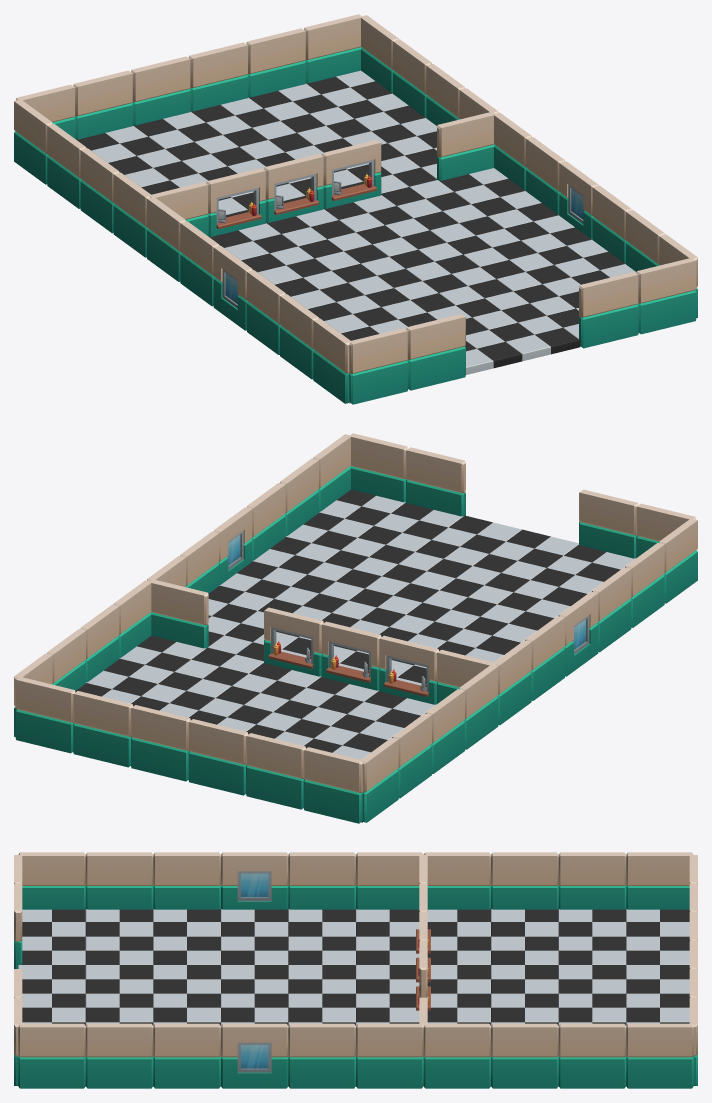
The model's file is restaurant.gltf.
The picture shows the model from 3 angles, top to bottom: view 1: azimuth 30°, elevation 25°; view 2: azimuth 150°, elevation 25°; view 3: azimuth 270°, elevation 25°; orthographic projection.
Visible parts, largest first — view 1: wall28, wall26, wall25, wall27, wall4, wall3, wall2, wall5, wall29, wall6, wall_orderwindow_decorated, wall_orderwindow_decorated2 (+65 smaller); view 2: wall, wall6, wall4, wall3, wall2, wall5, wall28, wall27, wall29, wall25, wall_orderwindow_decorated2, wall_orderwindow_decorated (+65 smaller); view 3: wall14, wall23, wall15, wall19, wall_window_closed2, wall18, wall16, wall17, wall24, wall13, wall20, wall21 (+54 smaller).
Boxes of the visible parts, x1,y1,x2,y2 form: wall28: (579, 272, 638, 348); wall26: (349, 328, 408, 404); wall25: (636, 258, 696, 334); wall27: (406, 314, 465, 390); wall4: (188, 42, 248, 111); wall3: (131, 56, 190, 125); wall2: (73, 70, 132, 139); wall5: (246, 28, 305, 97); wall29: (437, 112, 494, 180); wall6: (304, 14, 362, 83); wall_orderwindow_decorated: (206, 168, 266, 236); wall_orderwindow_decorated2: (264, 154, 323, 222); wall: (303, 747, 362, 823); wall6: (15, 677, 75, 753); wall4: (131, 705, 190, 781); wall3: (188, 719, 248, 795); wall2: (246, 733, 305, 809); wall5: (73, 691, 132, 767); wall28: (406, 447, 465, 516); wall27: (579, 489, 638, 558); wall29: (151, 580, 208, 648); wall25: (349, 433, 407, 502); wall_orderwindow_decorated2: (321, 621, 381, 690); wall_orderwindow_decorated: (379, 635, 438, 704); wall14: (558, 1023, 626, 1088); wall23: (85, 1023, 153, 1088); wall15: (491, 1023, 558, 1088); wall19: (153, 1023, 220, 1088); wall_window_closed2: (221, 1023, 288, 1088); wall18: (288, 1023, 355, 1088); wall16: (423, 1023, 490, 1088); wall17: (356, 1023, 423, 1088); wall24: (18, 1023, 85, 1088); wall13: (626, 1023, 693, 1088); wall20: (558, 852, 626, 909); wall21: (85, 852, 153, 909).
Bounding box in the file's own units: 24.5 × 4 × 40.5.
4 materials, 4 textured.
